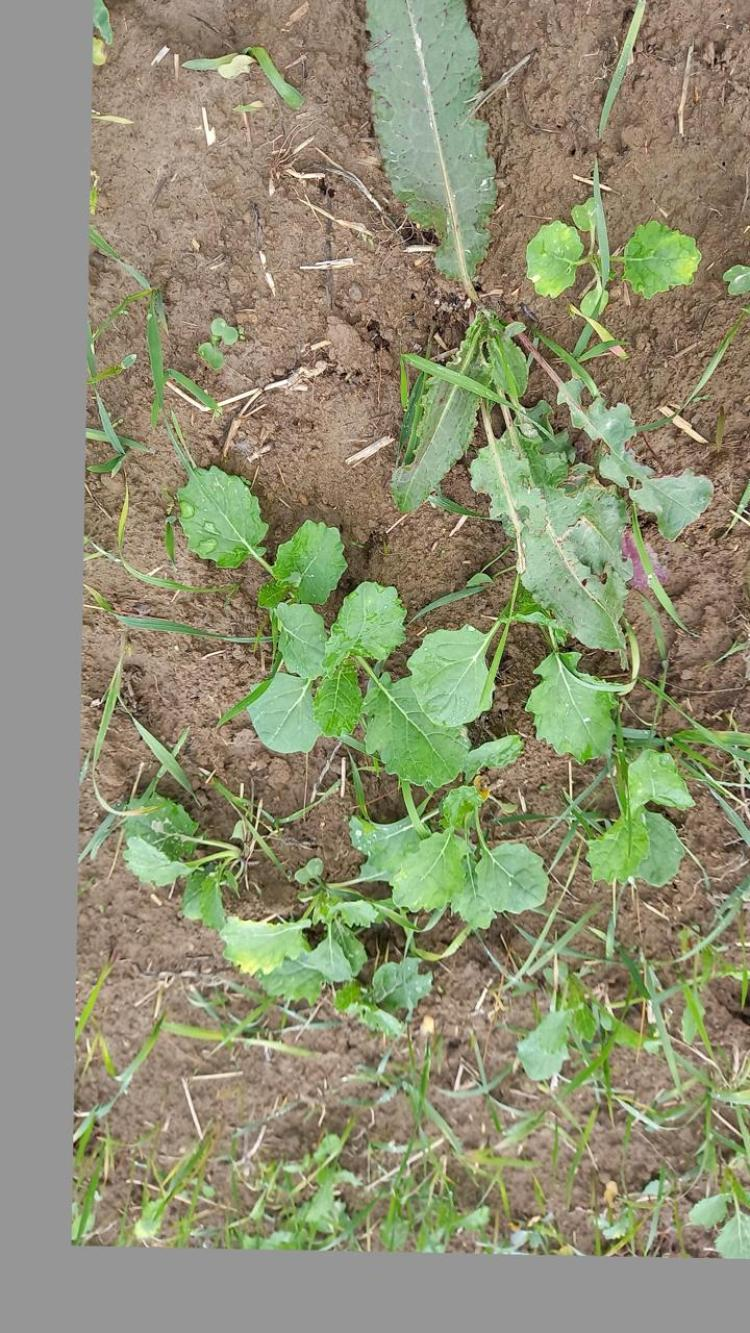zhavel: (365, 0, 715, 656)
